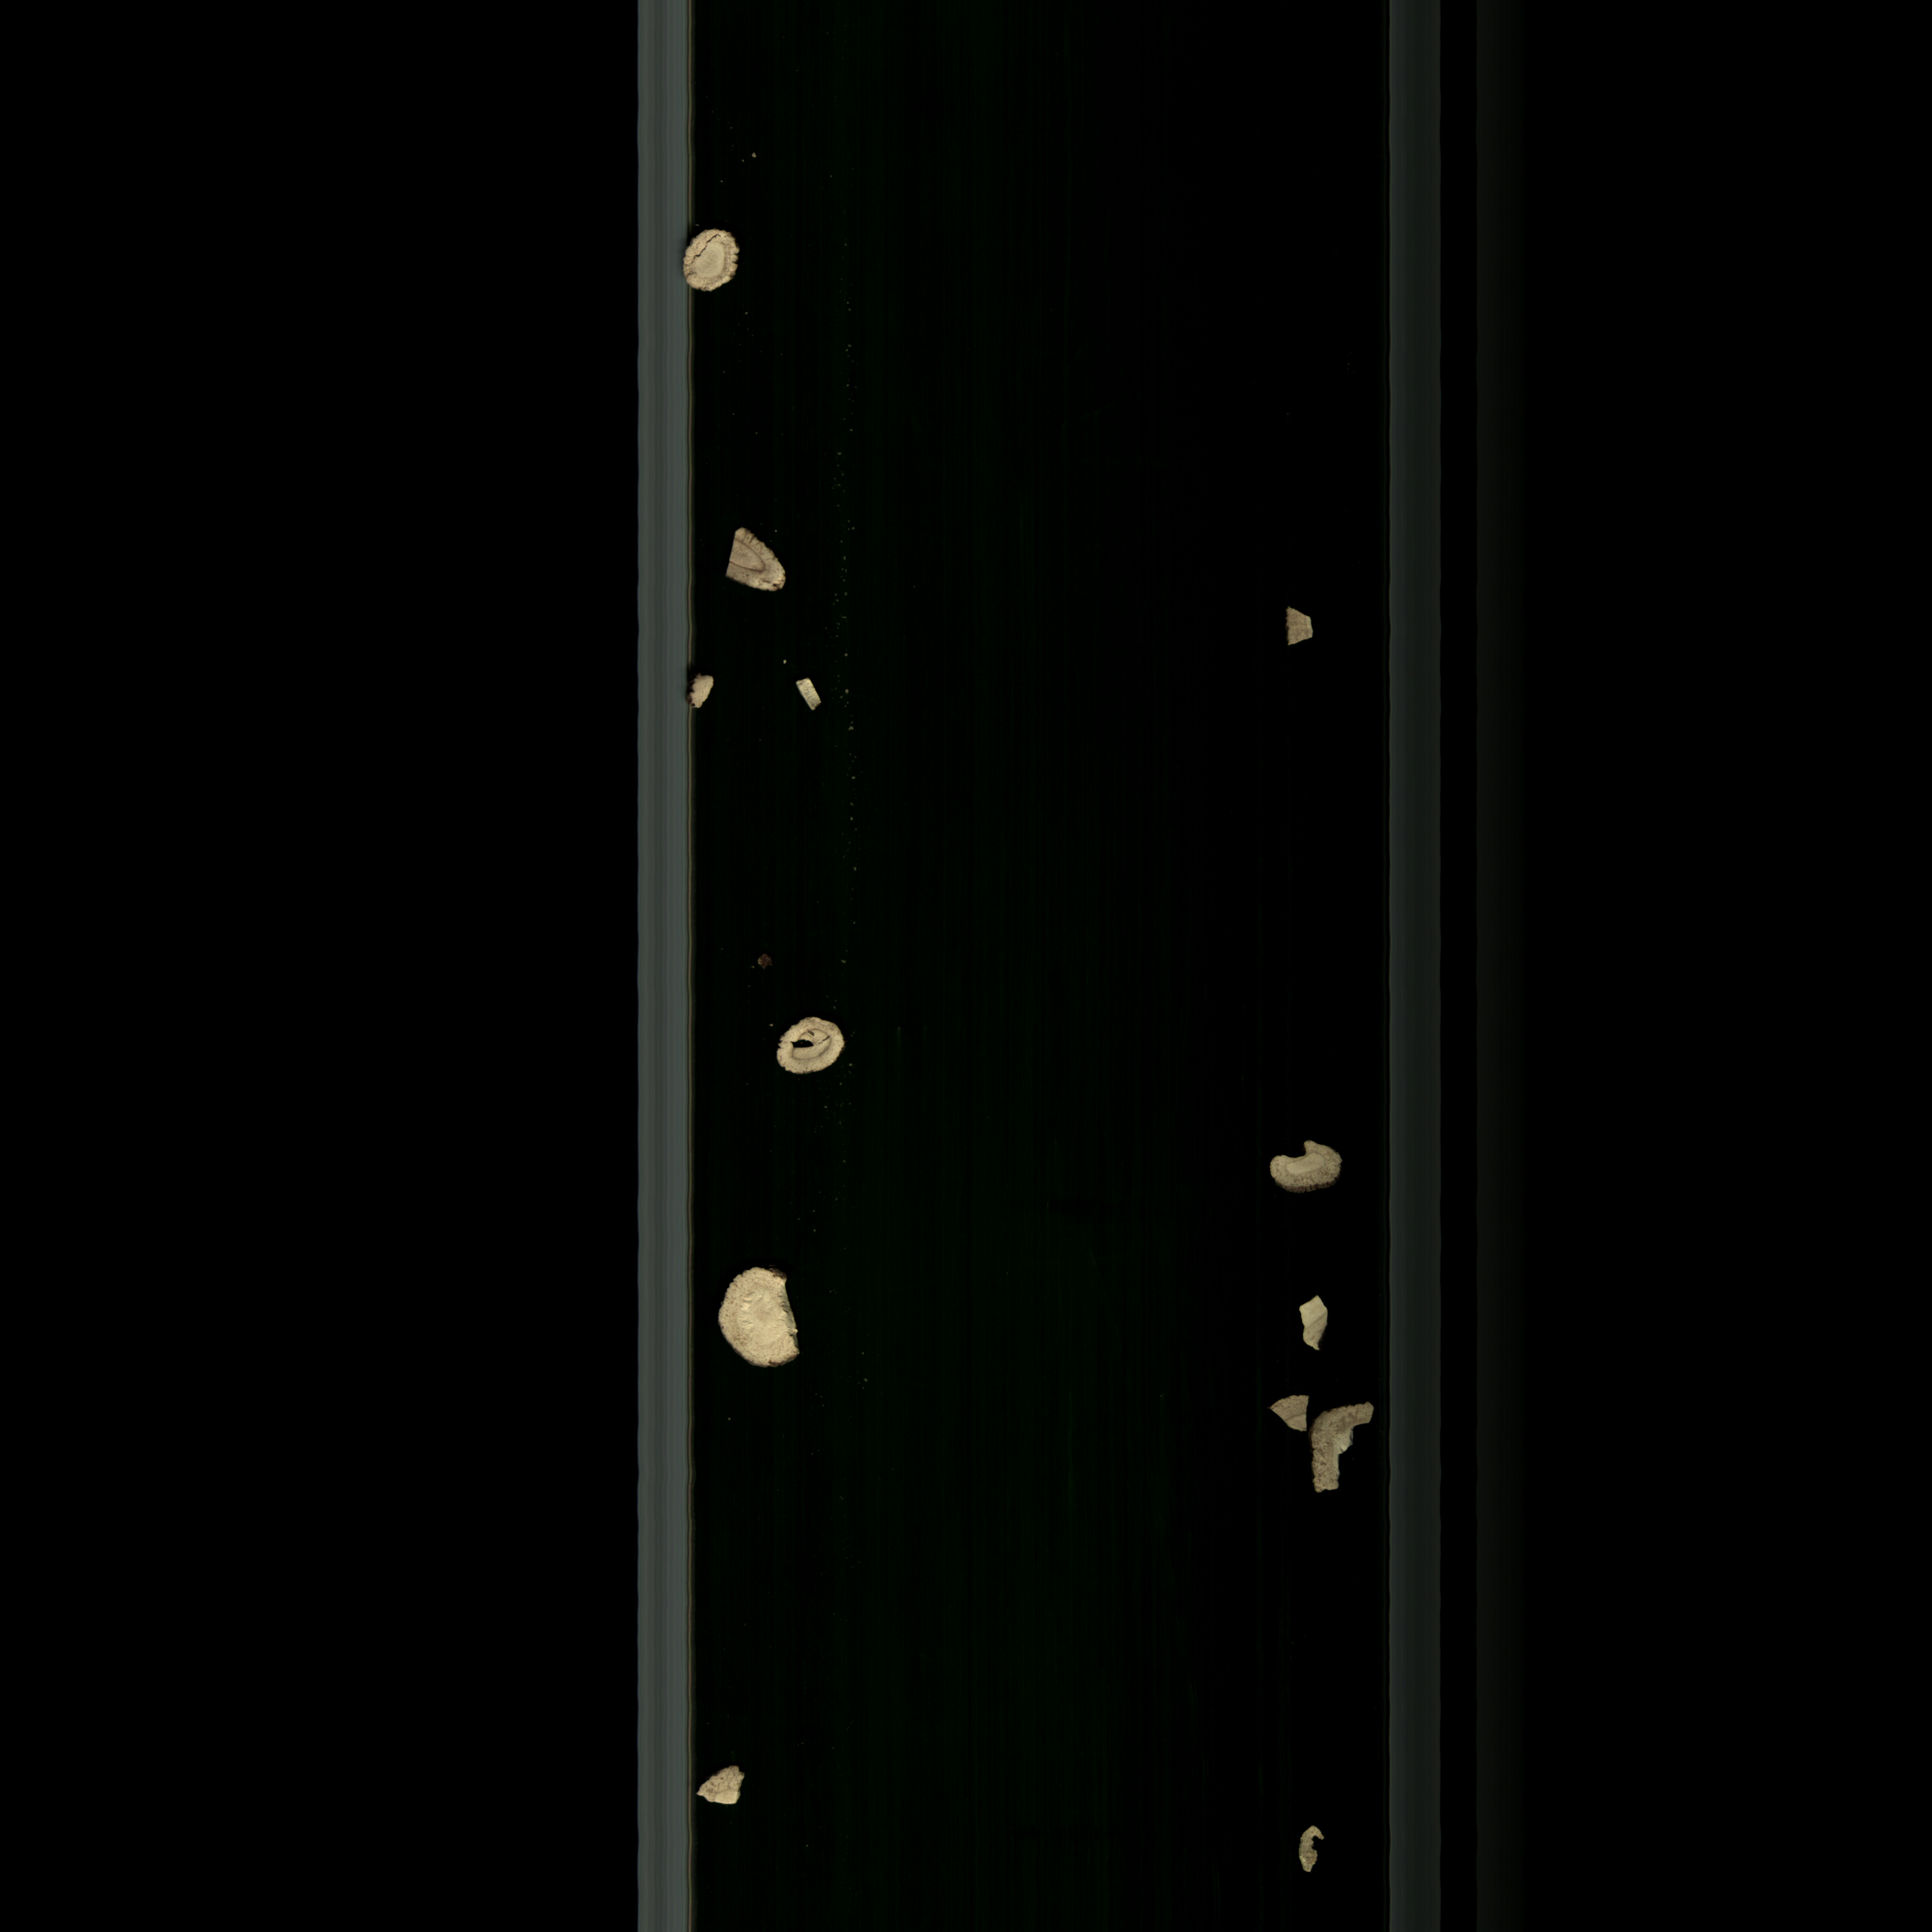debris: (709, 1265, 817, 1384), (1311, 1394, 1378, 1506), (1251, 1132, 1355, 1200), (720, 524, 796, 602)
distortion: (678, 225, 745, 301), (791, 674, 826, 718)
dreg: (695, 1750, 755, 1824), (1288, 1288, 1341, 1362), (1288, 1813, 1330, 1884), (1254, 1389, 1311, 1437), (1277, 605, 1322, 663), (685, 672, 720, 720)
hole: (759, 1012, 855, 1088)
